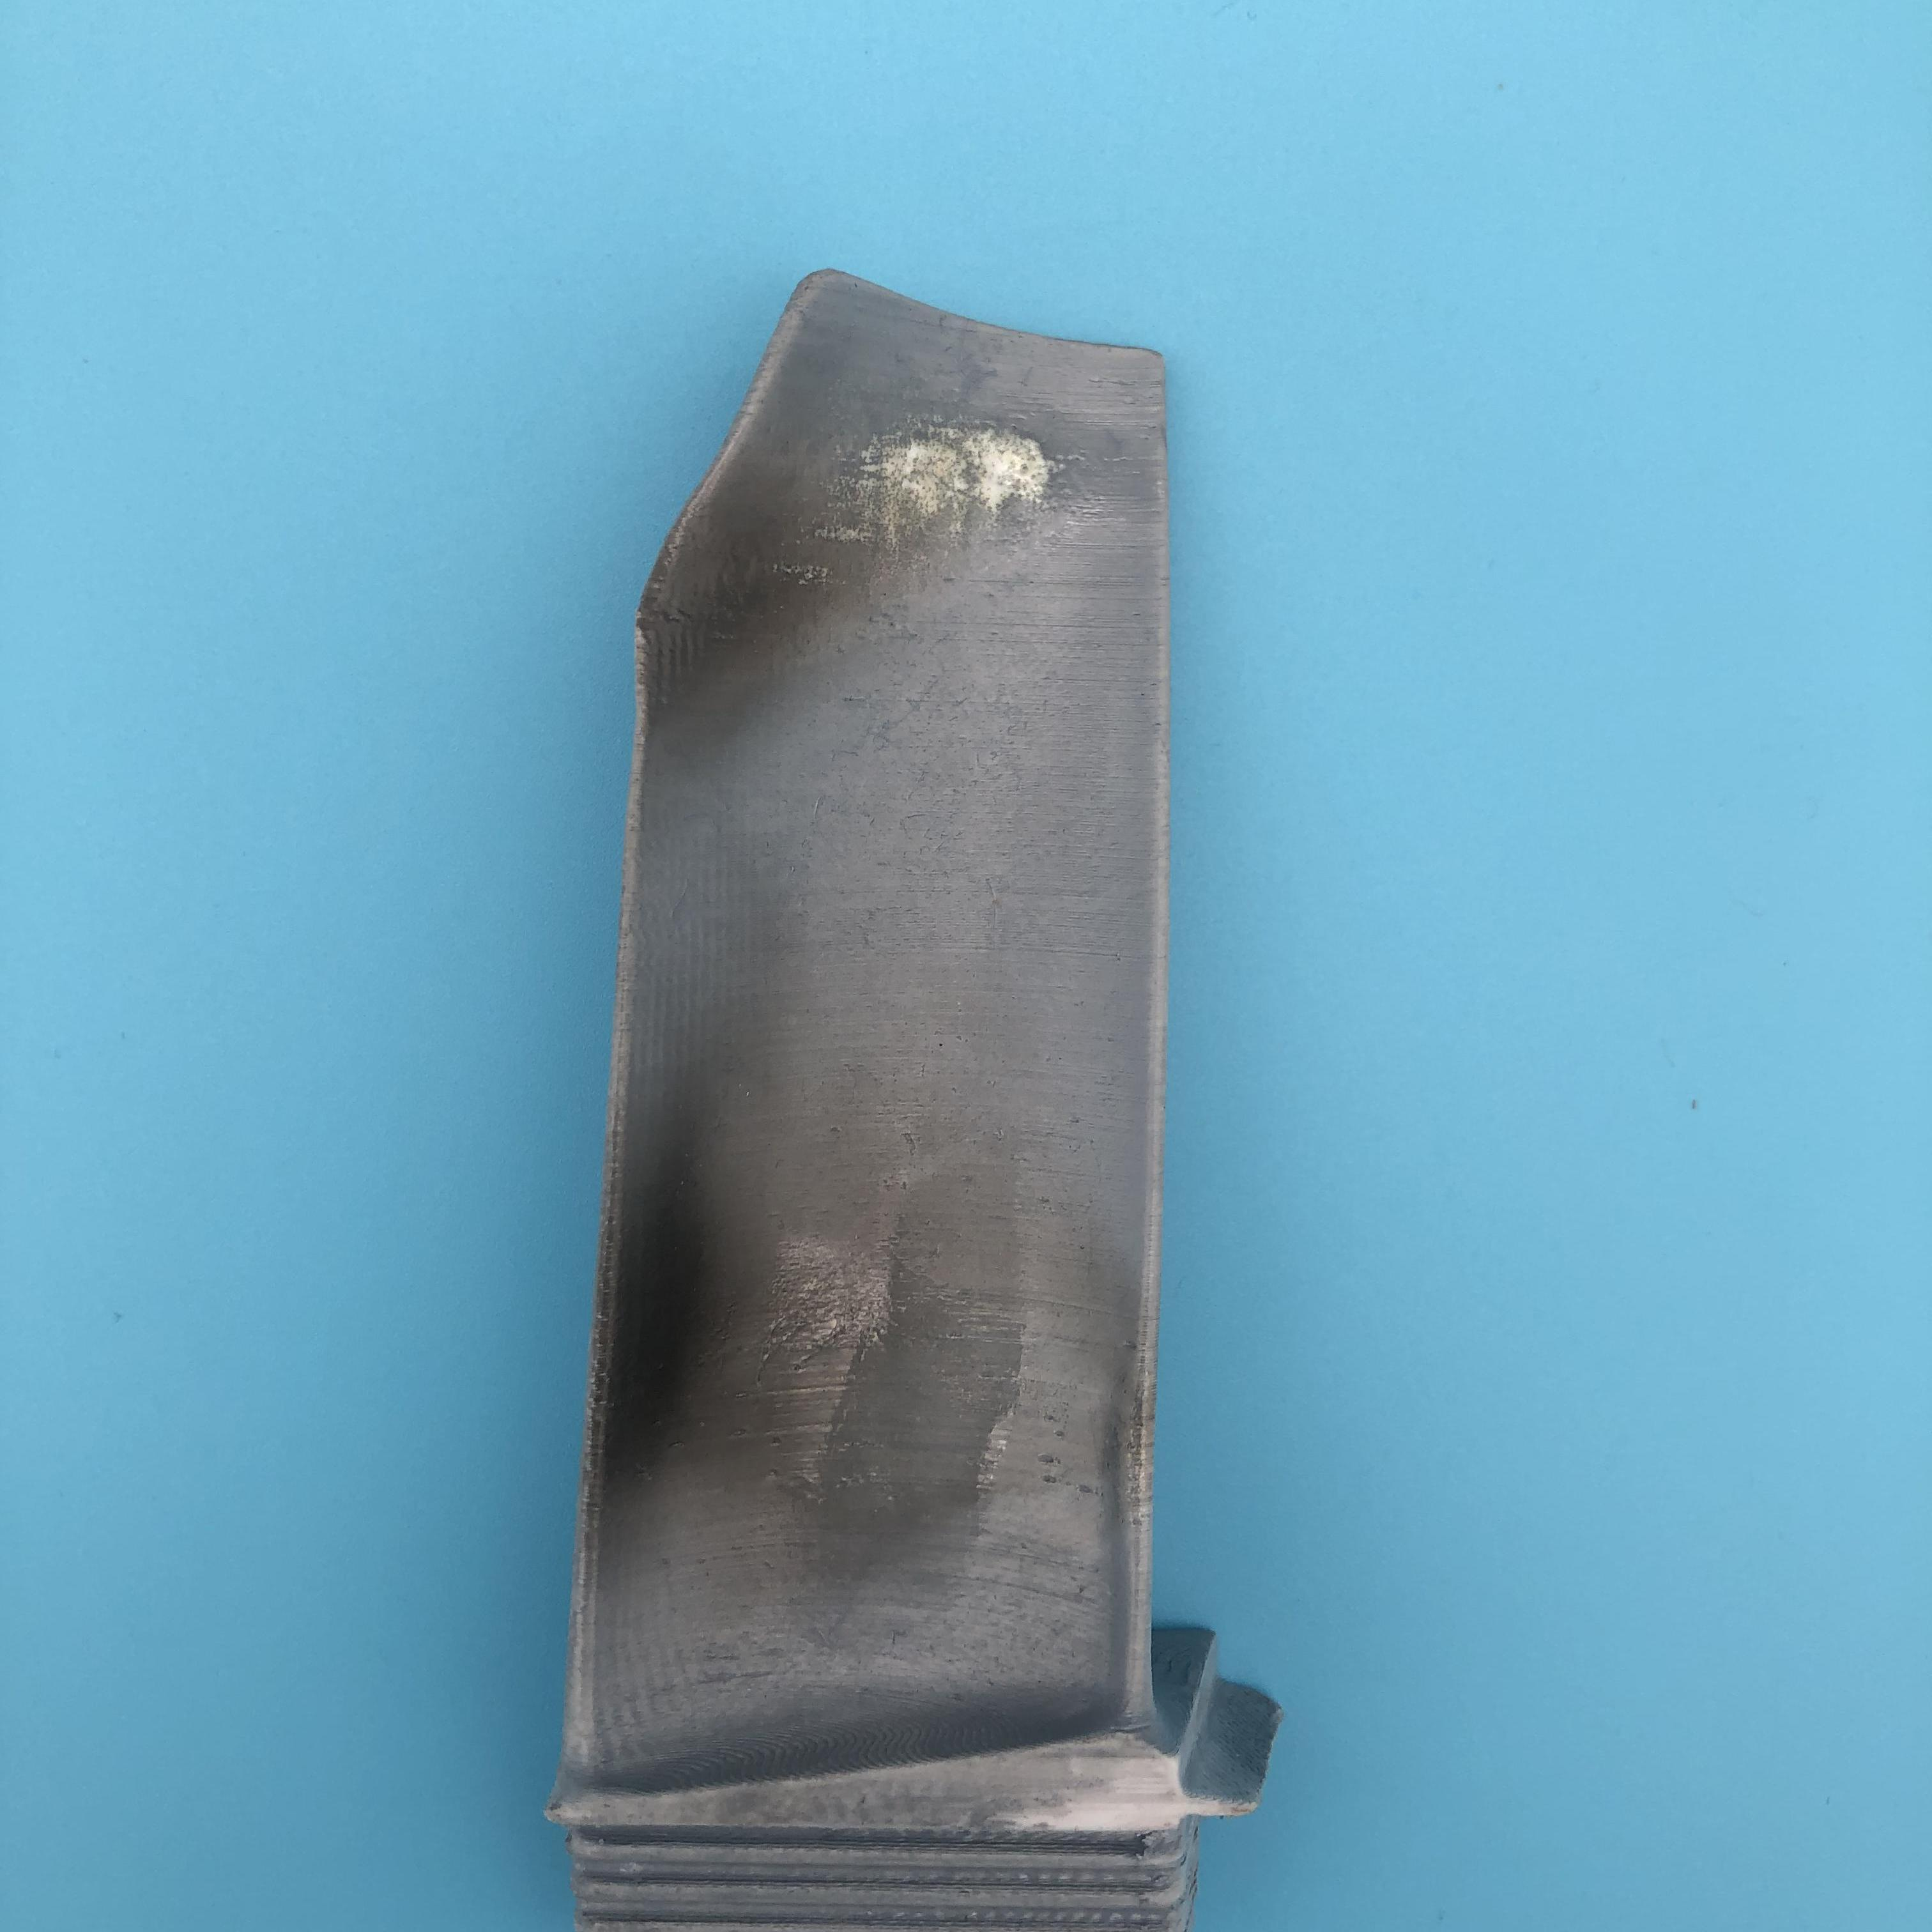ablation: (602, 1138, 1127, 1575), (637, 414, 1104, 686)
